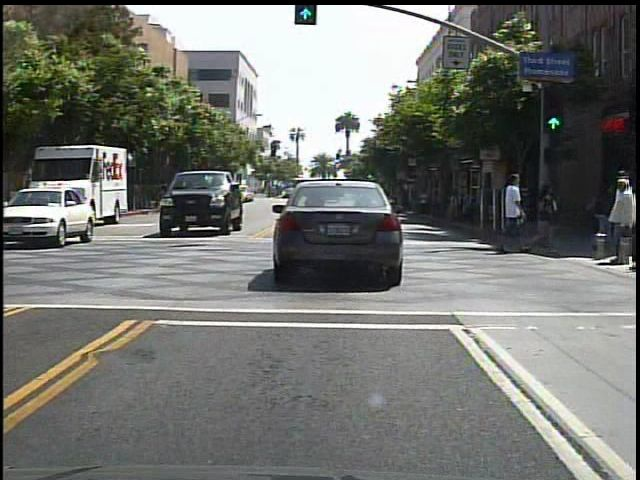person: (496, 159, 533, 257), (607, 167, 636, 268), (415, 186, 433, 218), (543, 175, 544, 254), (601, 182, 602, 250)
